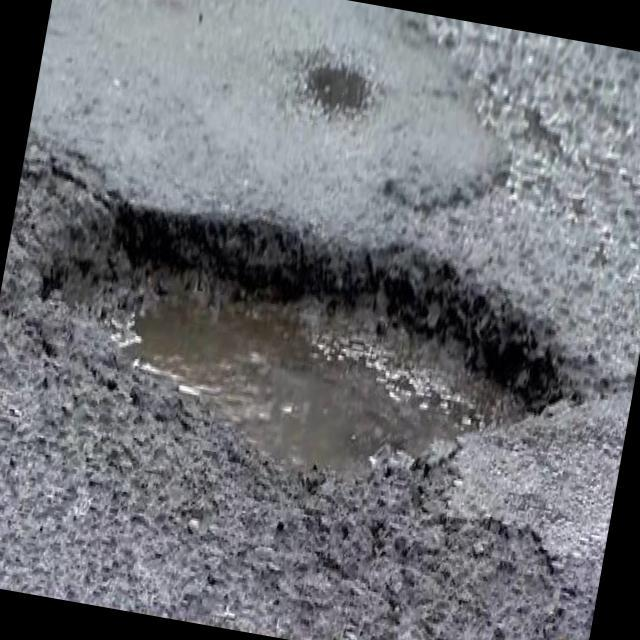Pothole: (4, 168, 595, 554)
